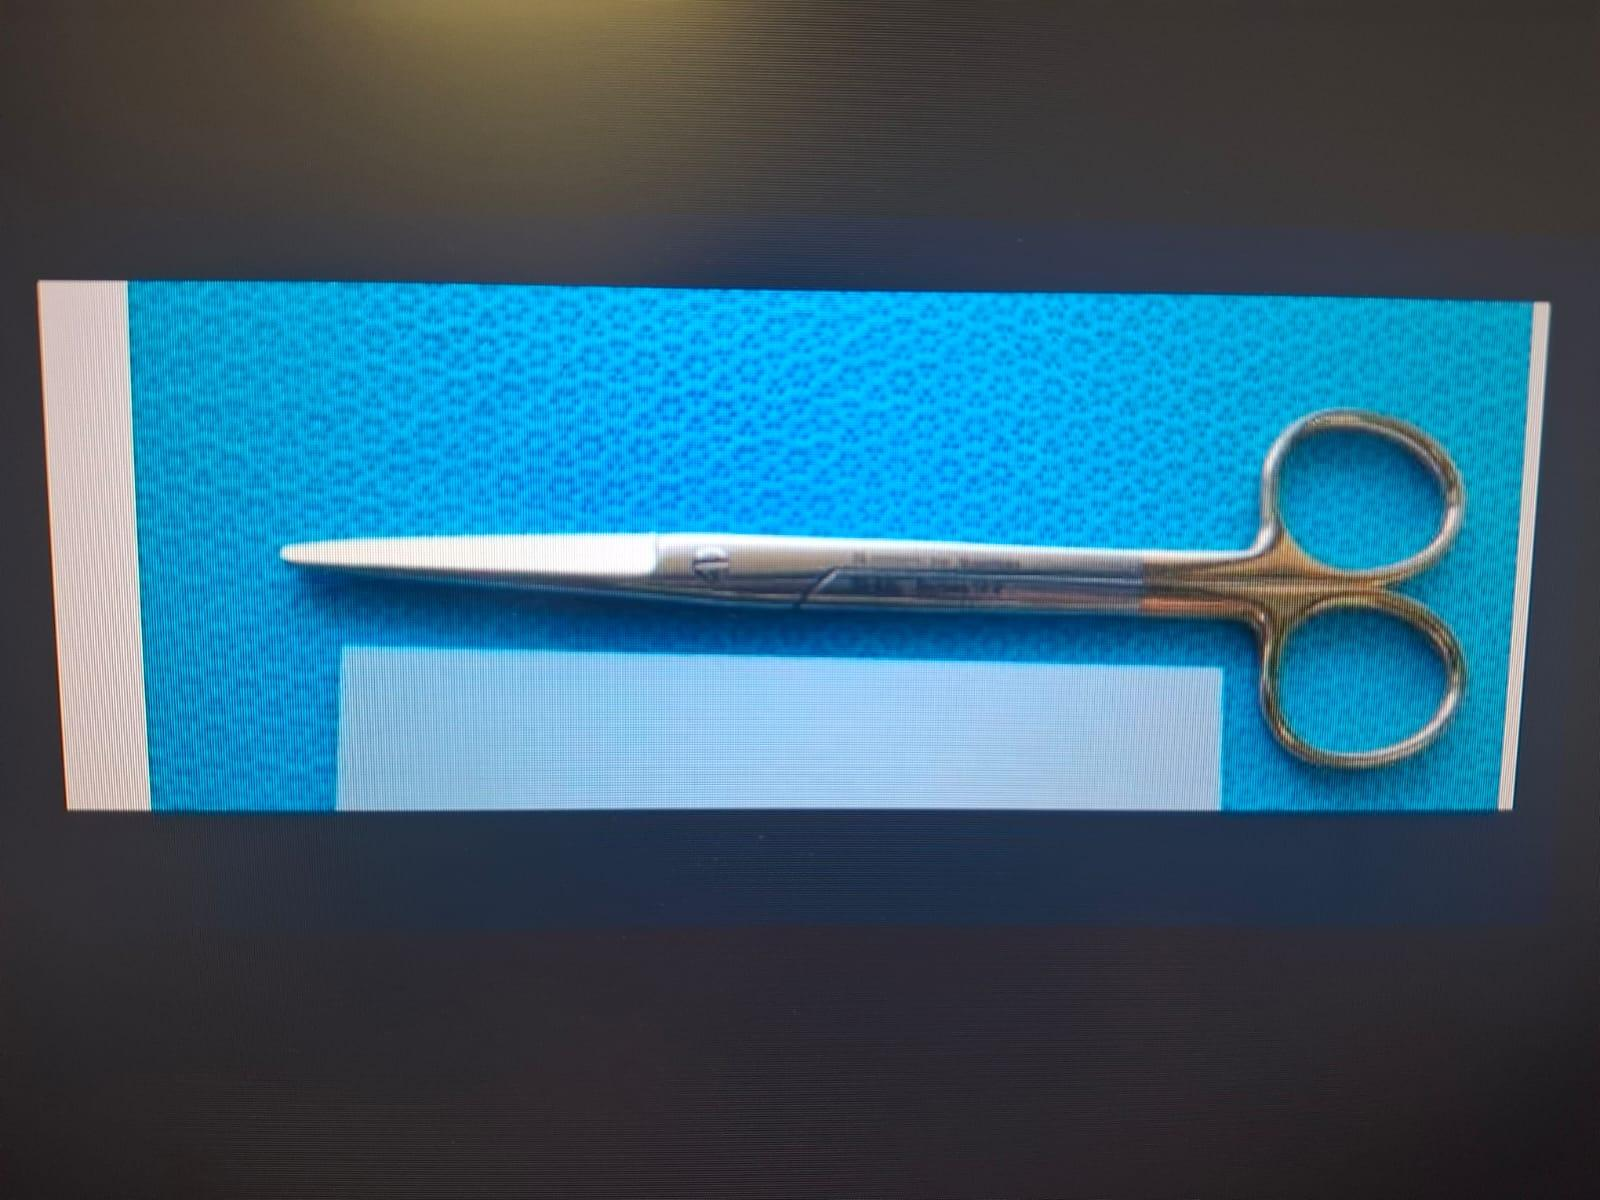Straight Mayo: (270, 396, 1492, 778)
